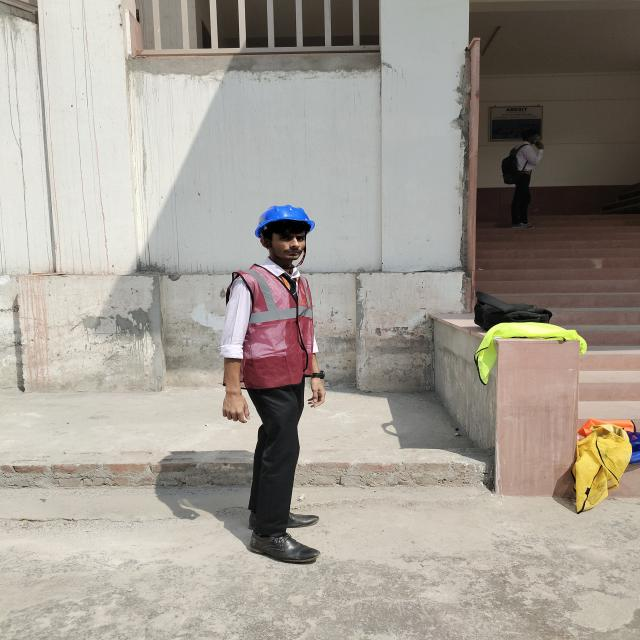safe: (222, 204, 324, 562)
